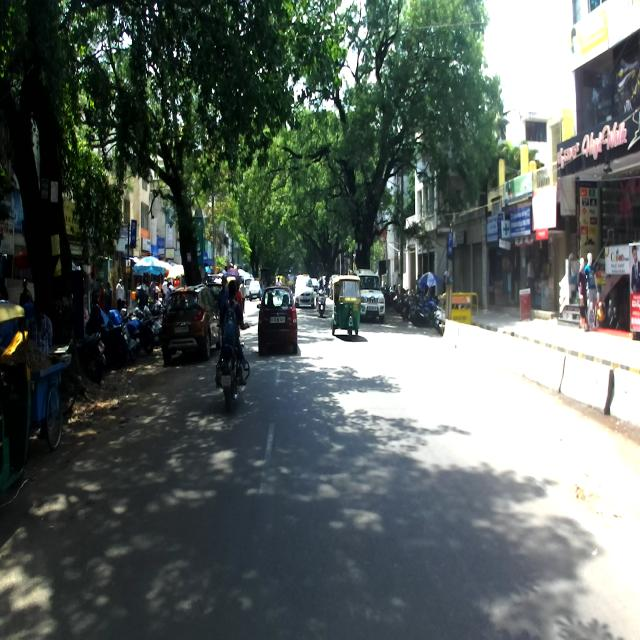auto ahead at: (329, 275, 362, 336)
car ahead at: (157, 278, 217, 362), (259, 281, 298, 360)
motorcycle ahead at: (215, 347, 252, 407)
